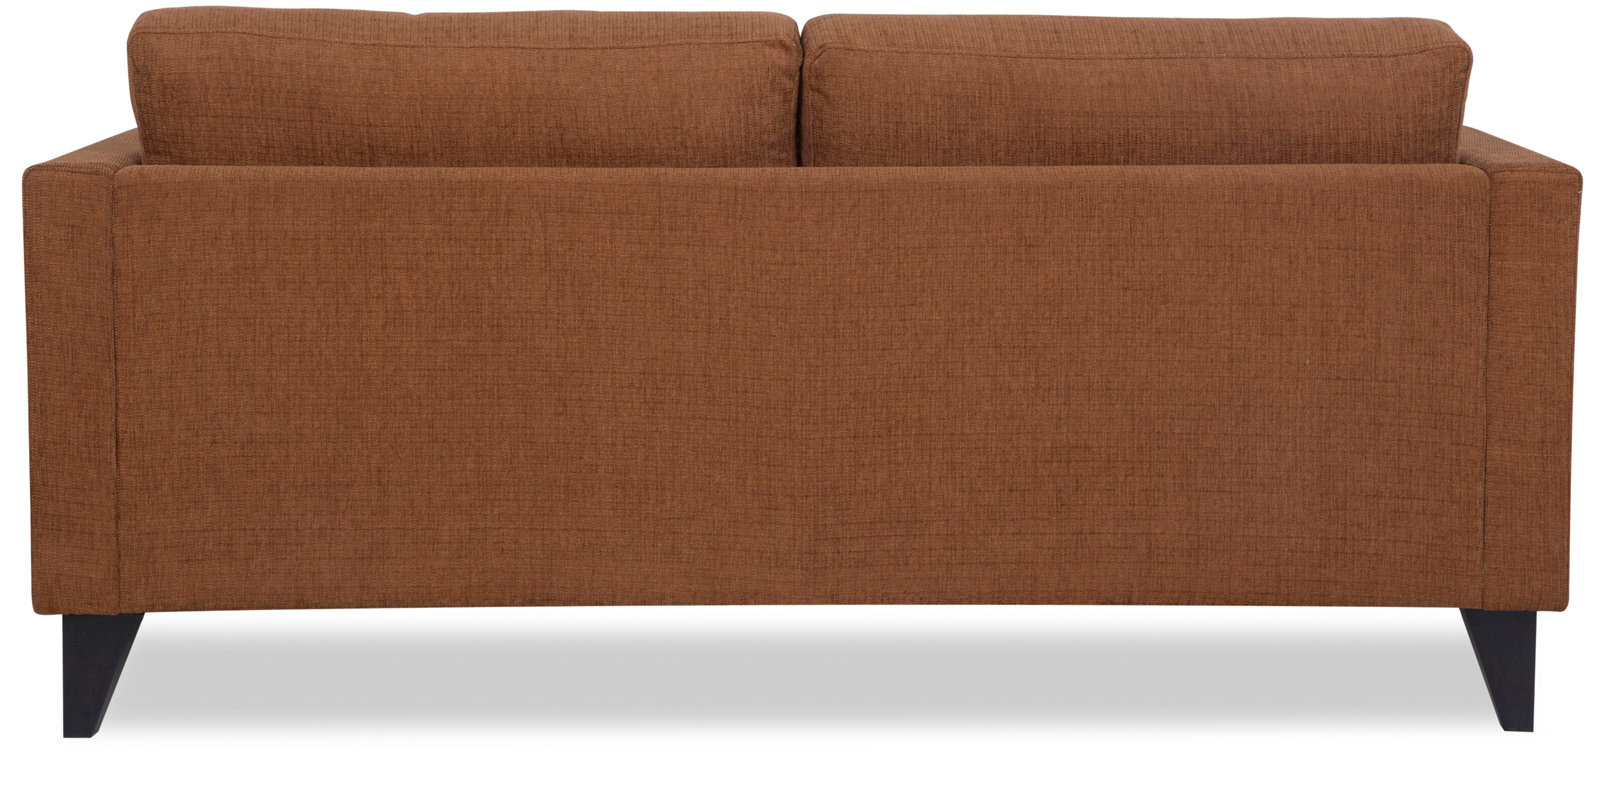Greenwich Three Seater Sofa in Caramel Brown Colour by Urban Living: (11, 3, 1600, 770)
